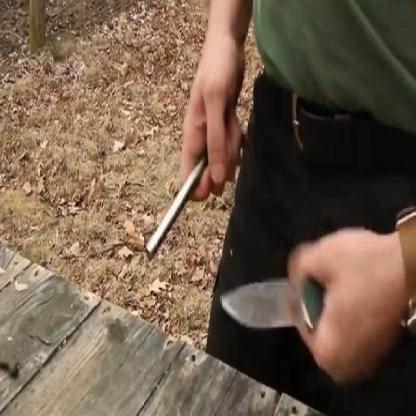knife: (211, 222, 371, 381)
